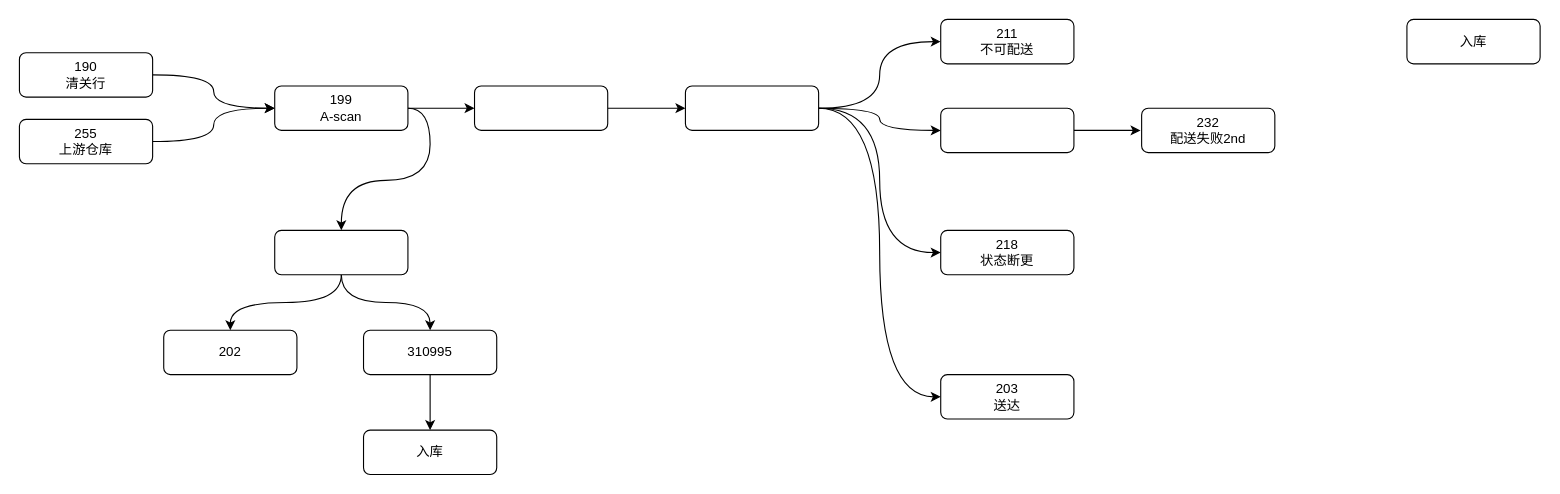
This 1560x494 diagram has some shape labels left out. Here are the shapes that lost their labels. From the top down, the box of each, then its label:
(473, 85, 608, 130): 200 司机已扫
(684, 85, 819, 130): 202 审核，司机发货
(940, 107, 1074, 153): 231 配送失败1st
(274, 229, 408, 275): 排线，处理飞单
